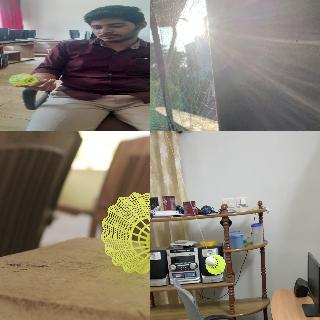shuttlecock: (100, 192, 149, 274), (7, 73, 44, 85), (205, 254, 225, 274)
